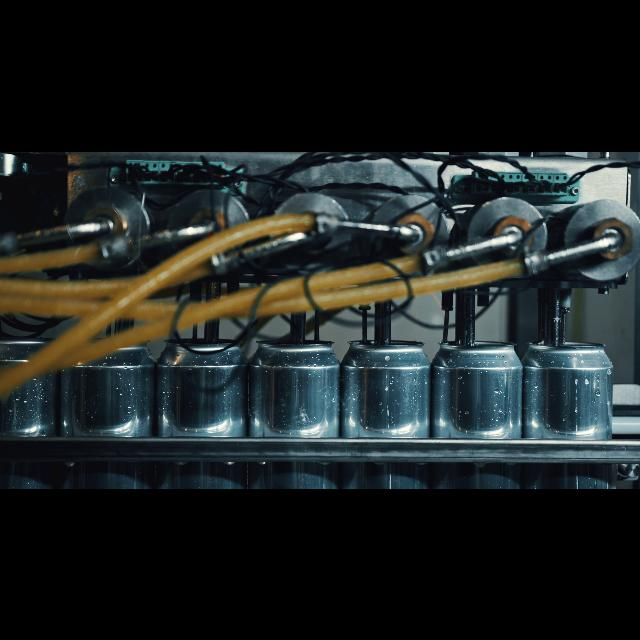empty: (520, 334, 618, 488), (160, 334, 254, 488), (250, 338, 346, 488), (70, 336, 158, 488), (435, 338, 519, 488), (342, 339, 426, 488), (0, 334, 68, 488)
